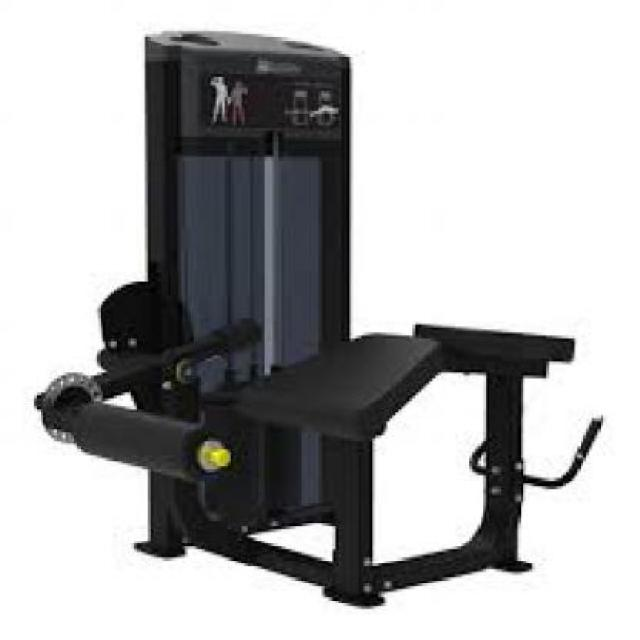reg curl machine: (35, 35, 611, 616)
